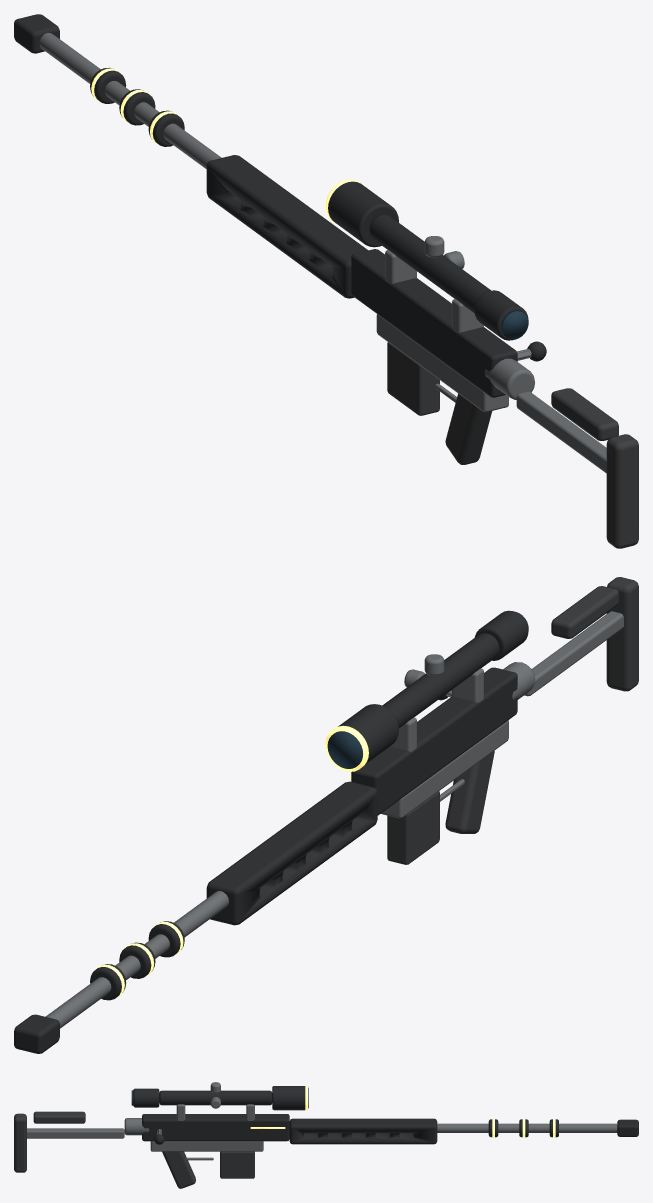
Rendered from agent_sniper.glb.
The picture shows the model from 3 angles, top to bottom: view 1: azimuth 30°, elevation 25°; view 2: azimuth 150°, elevation 25°; view 3: azimuth 270°, elevation 25°; orthographic projection. The views are drawn at different scales.
Parts seen in each view (by area): view 1: Forend, Receiver, ScopeTube, StockButt, Barrel, Chassis, ScopeBellFront, Mag, StockBeam, Grip, StockCheek, BoltShroud (+2 smaller); view 2: Forend, Receiver, ScopeTube, Barrel, StockButt, Mag, Chassis, Grip, StockBeam, StockCheek, ScopeBellFront, Brake (+3 smaller); view 3: Forend, Receiver, ScopeTube, Barrel, Chassis, StockBeam, Mag, ScopeBellFront, Grip, StockButt, StockCheek, ScopeBellRear (+2 smaller).
Boxes of the visible parts, <box> form: Forend: <box>206,155,368,298</box>; Receiver: <box>351,249,517,397</box>; ScopeTube: <box>369,215,490,312</box>; StockButt: <box>606,434,638,548</box>; Barrel: <box>39,33,221,168</box>; Chassis: <box>376,314,508,412</box>; ScopeBellFront: <box>328,181,398,247</box>; Mag: <box>387,342,439,415</box>; StockBeam: <box>516,391,606,473</box>; Grip: <box>445,393,492,464</box>; StockCheek: <box>551,388,618,440</box>; BoltShroud: <box>484,358,534,399</box>; Forend: <box>206,781,377,925</box>; Receiver: <box>351,667,517,815</box>; ScopeTube: <box>382,633,499,727</box>; Barrel: <box>45,891,228,1028</box>; StockButt: <box>606,577,638,691</box>; Mag: <box>387,791,439,864</box>; Chassis: <box>381,720,508,818</box>; Grip: <box>445,751,494,833</box>; StockBeam: <box>524,611,623,696</box>; StockCheek: <box>551,586,618,638</box>; ScopeBellFront: <box>338,704,398,764</box>; Brake: <box>14,1014,59,1053</box>; Forend: <box>289,1118,437,1144</box>; Receiver: <box>142,1114,289,1141</box>; ScopeTube: <box>159,1090,272,1105</box>; Barrel: <box>437,1123,617,1132</box>; Chassis: <box>150,1141,263,1151</box>; StockBeam: <box>27,1128,124,1138</box>; Mag: <box>220,1151,254,1178</box>; ScopeBellFront: <box>272,1086,305,1110</box>; Grip: <box>162,1151,195,1188</box>; StockButt: <box>14,1113,26,1172</box>; StockCheek: <box>33,1111,85,1123</box>; ScopeBellRear: <box>133,1088,159,1107</box>.
Bounding box in the file's own units: 0.1065 × 0.2639 × 1.44.
